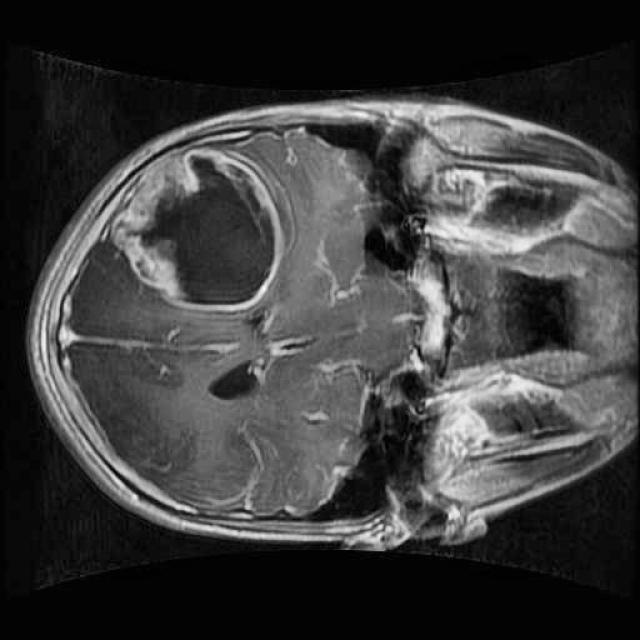Non-Tumor: (95, 129, 296, 325)
